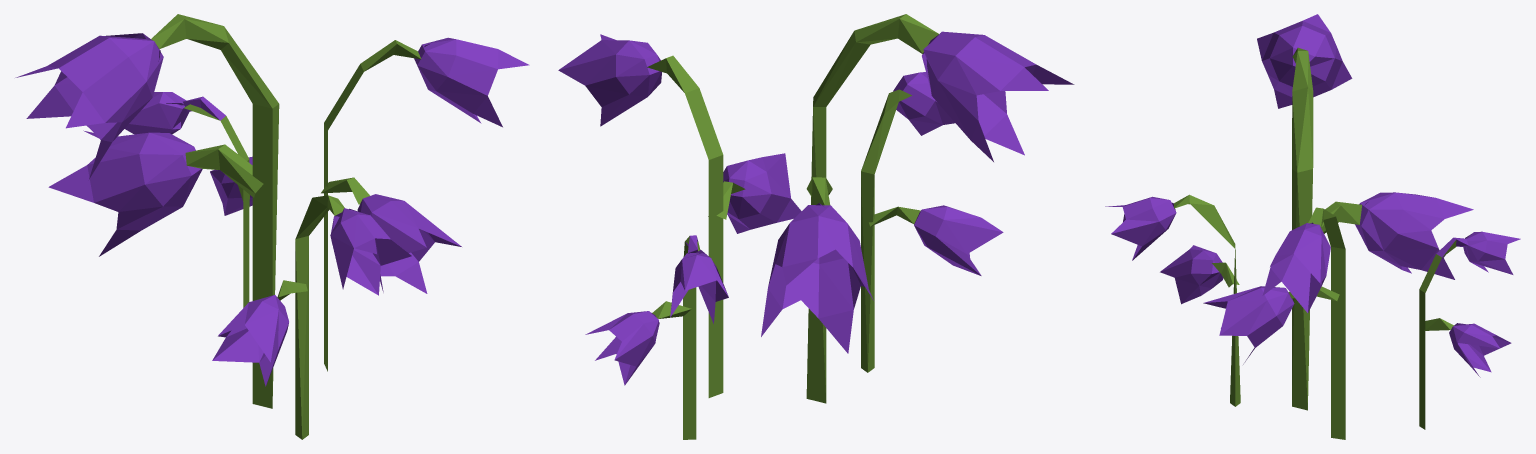
The model's file is bell.glb.
3 views of the same model, side by side, from view 1: azimuth 30°, elevation 25°; view 2: azimuth 150°, elevation 25°; view 3: azimuth 270°, elevation 25° (orthographic). The views are drawn at different scales.
Visible parts, largest first — view 1: Bell_flowers_Circle.004; view 2: Bell_flowers_Circle.004; view 3: Bell_flowers_Circle.004.
Part boxes in pixels (left/top/right/bottom): Bell_flowers_Circle.004: left=15, top=14, right=529, bottom=439; Bell_flowers_Circle.004: left=558, top=14, right=1074, bottom=439; Bell_flowers_Circle.004: left=1105, top=14, right=1520, bottom=439.
Size of the model in its own units: 1.4 by 1.1 by 1.29.
